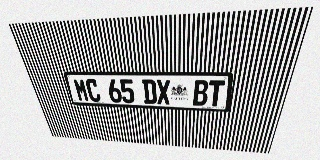5: (119, 79, 135, 103)
6: (106, 79, 123, 103)
B: (193, 80, 209, 106)
C: (85, 79, 102, 102)
D: (142, 79, 157, 104)
M: (73, 79, 90, 102)
T: (207, 80, 225, 106)
X: (156, 80, 170, 105)
